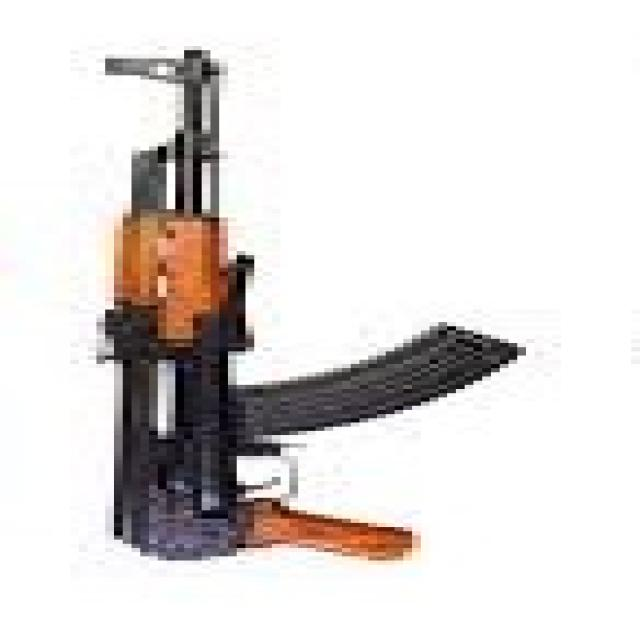rifle: (97, 44, 529, 575)
